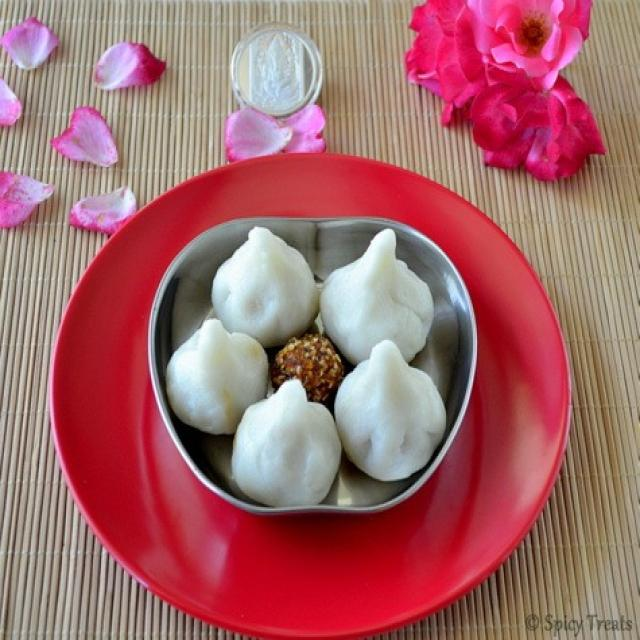poorna kolukattai: (165, 214, 467, 522)
